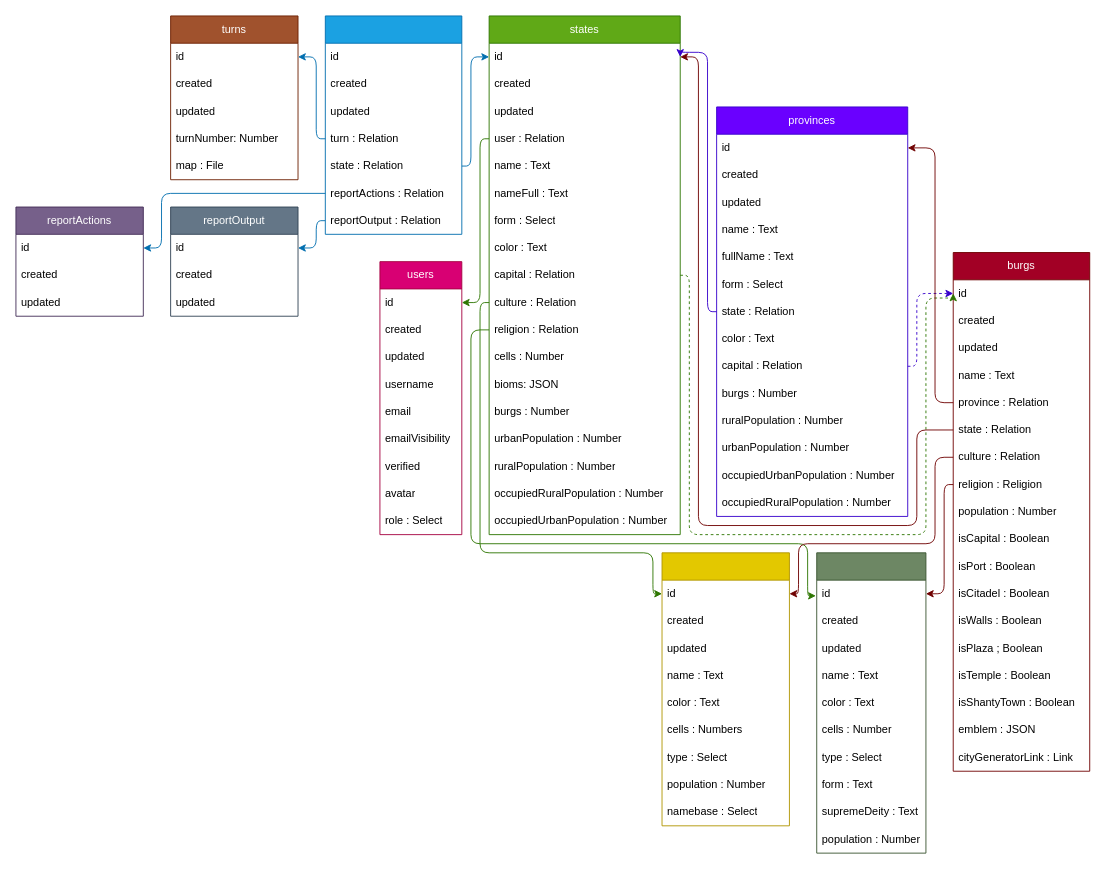
The diagram is 1106 pixels wide and 869 high, and some of its shapes have lost their labels. The box of each missing label's shape, as (x1, y1, x2, y2) in pixels:
cultures: (661, 552, 789, 826)
religions: (816, 552, 926, 853)
reports: (324, 15, 462, 234)
